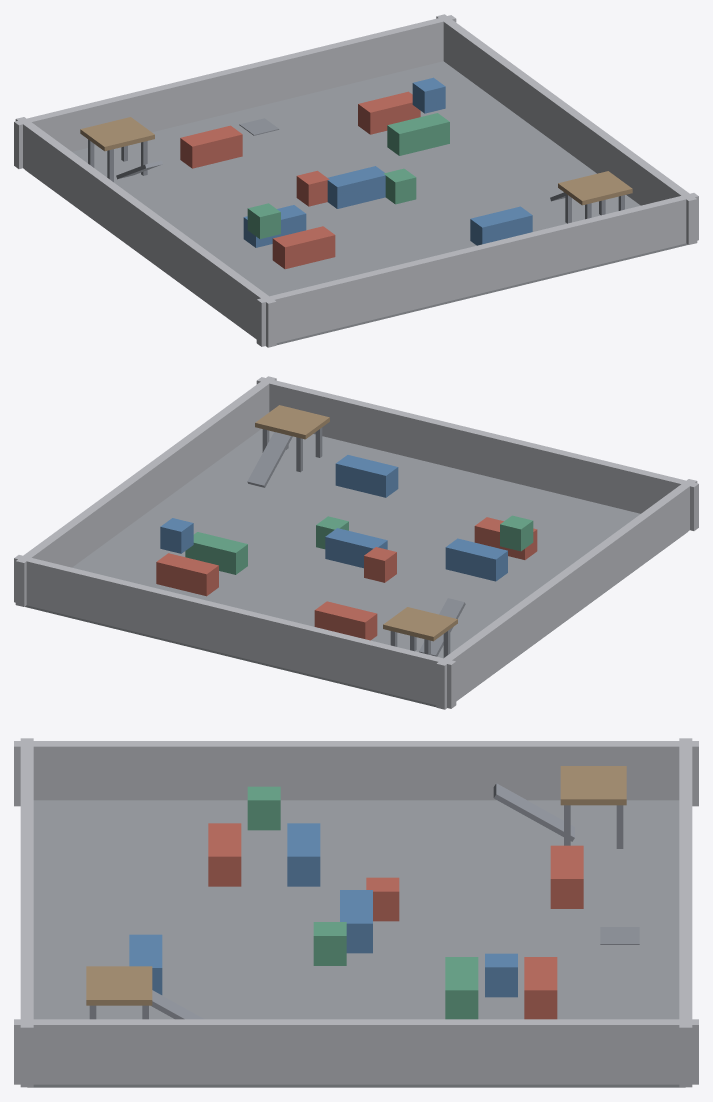
Rendered from warehouse.glb.
3 views of the same model, one above another, from view 1: azimuth 30°, elevation 25°; view 2: azimuth 150°, elevation 25°; view 3: azimuth 270°, elevation 25° (orthographic). The views are drawn at different scales.
Visible parts, largest first — view 1: Ground, Wall_N, Wall_S, Wall_E, Wall_W, C1, C10, C4, C7, C5, C11, T2_Deck (+6 smaller); view 2: Ground, Wall_S, Wall_N, Wall_E, Wall_W, C11, C2, C5, C10, C4, C7, T1_Deck (+8 smaller); view 3: Ground, Wall_W, Wall_E, Wall_N, Wall_S, T1_Deck, T2_Deck, C1, C2, C10, C4, C5 (+9 smaller).
Boxes of the visible parts, x1,y1,x2,y2 form: Ground: (25, 61, 687, 347); Wall_N: (256, 193, 698, 346); Wall_S: (14, 15, 456, 168); Wall_E: (15, 117, 276, 347); Wall_W: (436, 14, 697, 244); C1: (272, 226, 335, 269); C10: (180, 125, 242, 168); C4: (387, 113, 449, 155); C7: (327, 166, 385, 208); C5: (358, 91, 420, 134); C11: (470, 206, 532, 245); T2_Deck: (80, 117, 154, 151); Ground: (25, 429, 687, 709); Wall_S: (14, 555, 456, 708); Wall_N: (256, 377, 698, 530); Wall_E: (436, 479, 697, 709); Wall_W: (15, 376, 276, 606); C11: (335, 455, 398, 497); C2: (445, 538, 507, 581); C5: (156, 553, 218, 596); C10: (314, 601, 377, 640); C4: (185, 532, 247, 574); C7: (325, 528, 387, 568); T1_Deck: (255, 405, 329, 439); Ground: (27, 800, 685, 1087); Wall_W: (14, 1019, 698, 1084); Wall_E: (14, 741, 698, 806); Wall_N: (20, 738, 33, 1087); Wall_S: (679, 738, 692, 1087); T1_Deck: (86, 966, 152, 1005); T2_Deck: (560, 766, 626, 805); C1: (208, 823, 241, 886); C2: (287, 823, 320, 886); C10: (550, 845, 583, 908); C4: (445, 957, 478, 1019); C5: (524, 957, 557, 1019).
Size of the model in its own units: 52 by 6 by 52.
